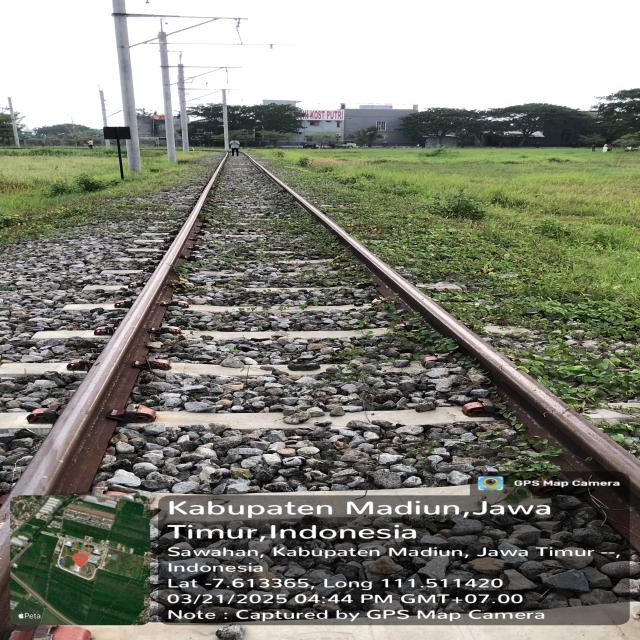rail-detection: (251, 160, 640, 496), (11, 165, 221, 495), (605, 497, 640, 549)
